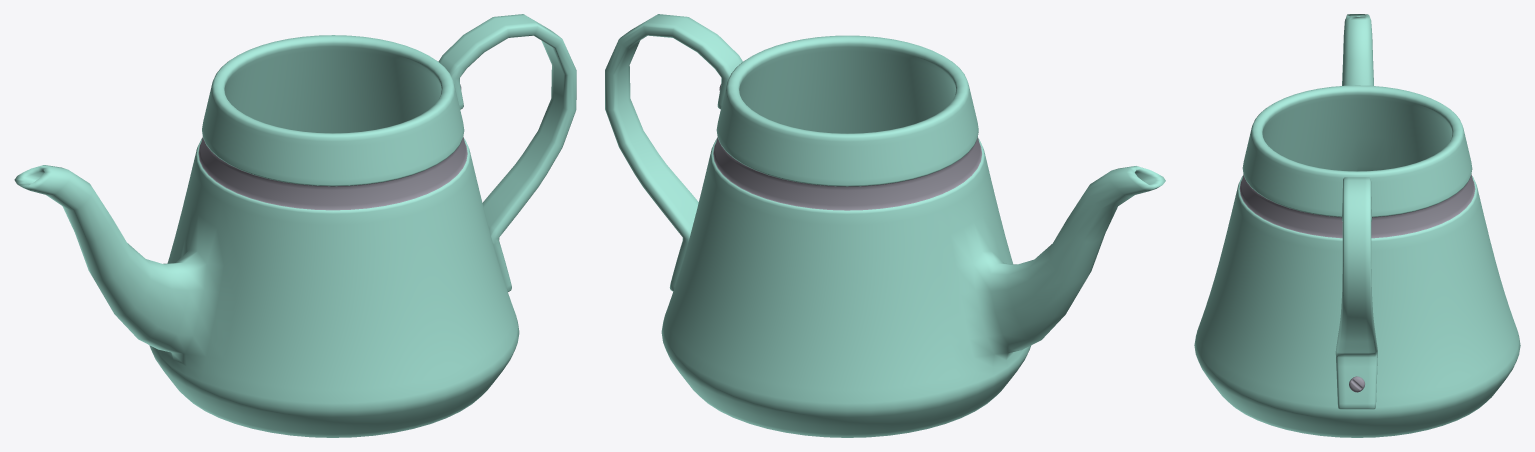
File: can.glb
3 renders of one model, left to right at view 1: azimuth 30°, elevation 25°; view 2: azimuth 150°, elevation 25°; view 3: azimuth 270°, elevation 25°, orthographic. The views are drawn at different scales.
Parts seen in each view (by area): view 1: body, handle; view 2: body, handle; view 3: body, handle.
Part boxes in pixels (x1=…): body: x1=14, y1=35, x2=519, y2=437; handle: x1=438, y1=14, x2=576, y2=291; body: x1=661, y1=35, x2=1165, y2=437; handle: x1=605, y1=14, x2=742, y2=291; body: x1=1194, y1=14, x2=1520, y2=437; handle: x1=1335, y1=177, x2=1377, y2=409.
Bounding box in the file's own units: 3.35 × 1.79 × 1.96.
